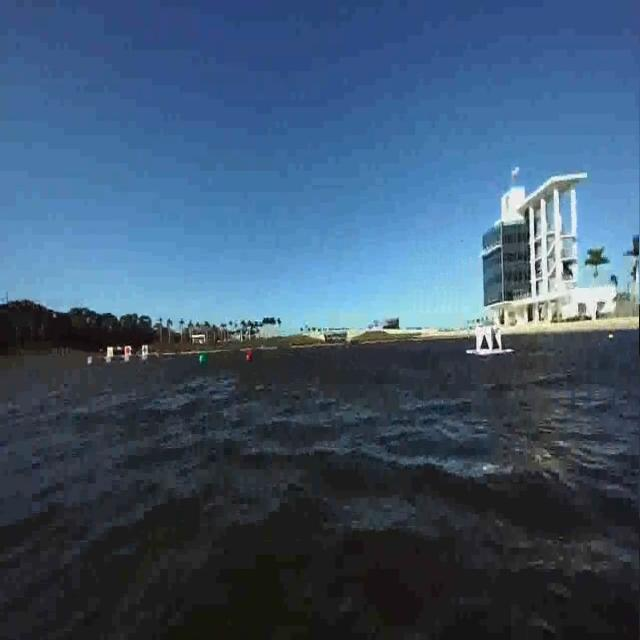green-buoy: (200, 352, 209, 365)
red-buoy: (245, 349, 250, 362)
